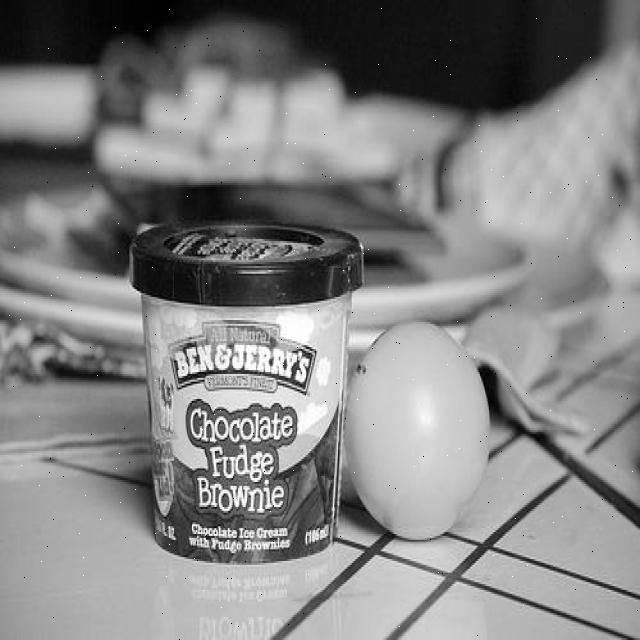ping-pong-ball: (343, 318, 493, 542)
